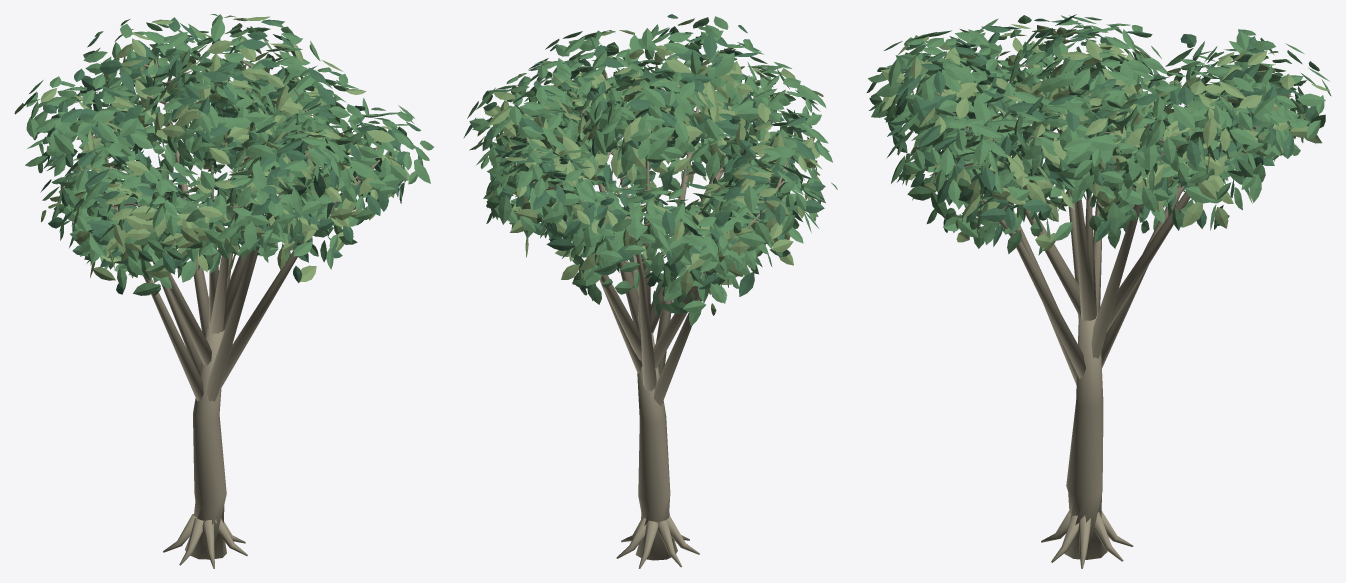
File: tree_garden.glb
3 views of the same model, side by side, from view 1: azimuth 30°, elevation 25°; view 2: azimuth 150°, elevation 25°; view 3: azimuth 270°, elevation 25° (orthographic). The views are drawn at different scales.
Visible parts, largest first — view 1: tree_garden_GardenLeaf, tree_garden_GardenLeafDark, tree_garden_GardenLeafLight, tree_garden_GardenBark; view 2: tree_garden_GardenLeaf, tree_garden_GardenLeafLight, tree_garden_GardenLeafDark, tree_garden_GardenBark; view 3: tree_garden_GardenLeaf, tree_garden_GardenBark, tree_garden_GardenLeafLight, tree_garden_GardenLeafDark.
Boxes of the visible parts, box(x1,y1,x2,y2) form: tree_garden_GardenLeaf: box(25, 14, 433, 295); tree_garden_GardenLeafDark: box(24, 17, 423, 294); tree_garden_GardenLeafLight: box(14, 15, 409, 281); tree_garden_GardenBark: box(92, 60, 380, 568); tree_garden_GardenLeaf: box(467, 16, 837, 326); tree_garden_GardenLeafLight: box(474, 18, 825, 315); tree_garden_GardenLeafDark: box(463, 14, 825, 302); tree_garden_GardenBark: box(518, 57, 790, 568); tree_garden_GardenLeaf: box(866, 15, 1331, 253); tree_garden_GardenBark: box(937, 64, 1275, 568); tree_garden_GardenLeafLight: box(880, 24, 1330, 251); tree_garden_GardenLeafDark: box(881, 14, 1319, 255).
Bounding box in the file's own units: 6.61 × 9.19 × 7.38.
